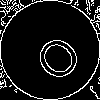O: (25, 25, 85, 86)
